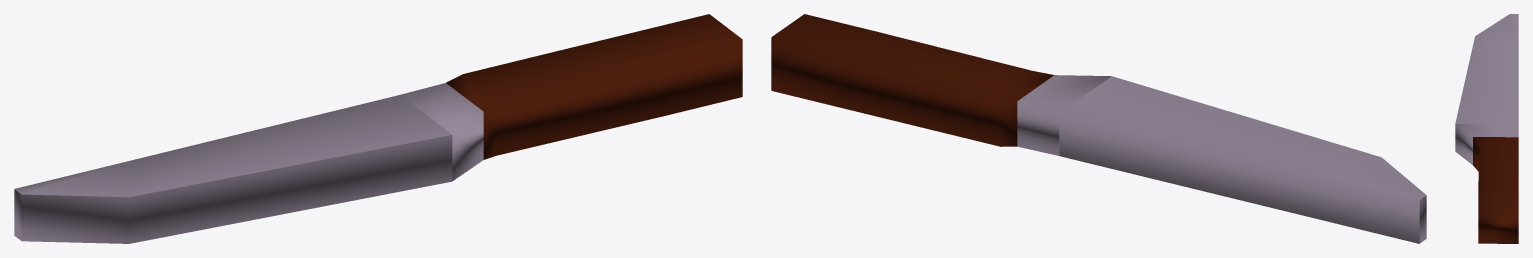
The model's file is cuchillo.fbx.
3 renders of one model, left to right at view 1: azimuth 30°, elevation 25°; view 2: azimuth 150°, elevation 25°; view 3: azimuth 270°, elevation 25°, orthographic. The views are drawn at different scales.
Parts seen in each view (by area): view 1: cuchilla, mango; view 2: cuchilla, mango; view 3: cuchilla, mango.
Part boxes in pixels (box(x1,y1,x2,y2)): cuchilla: box(14, 83, 483, 243); mango: box(446, 14, 742, 159); cuchilla: box(1017, 75, 1426, 243); mango: box(771, 14, 1053, 146); cuchilla: box(1455, 14, 1518, 164); mango: box(1473, 137, 1518, 243).
Size of the model in its own units: 199 by 15.77 by 26.87.
